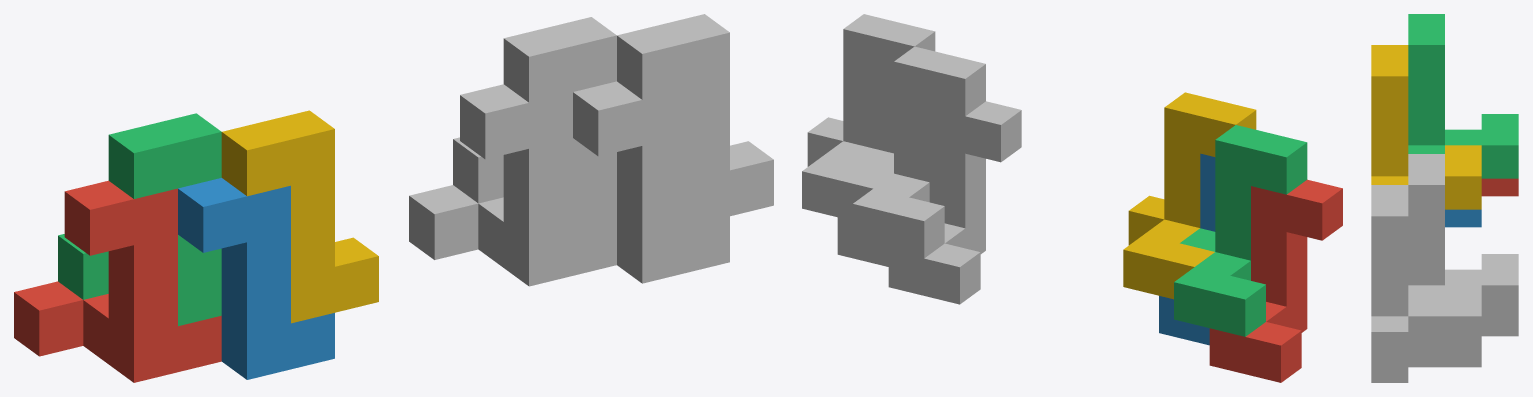
File: tiling.obj
3 renders of one model, left to right at view 1: azimuth 30°, elevation 25°; view 2: azimuth 150°, elevation 25°; view 3: azimuth 270°, elevation 25°, orthographic. The views are drawn at different scales.
Parts seen in each view (by area): view 1: copy_1_domain_1, copy_1_domain_5, copy_1_domain_6, copy_1_domain_2, copy_1_domain_4, copy_1_domain_8, copy_1_domain_3, copy_1_domain_7; view 2: copy_1_domain_3, copy_1_domain_7, copy_1_domain_5, copy_1_domain_1, copy_1_domain_4, copy_1_domain_8, copy_1_domain_2, copy_1_domain_6; view 3: copy_1_domain_8, copy_1_domain_7, copy_1_domain_3, copy_1_domain_4, copy_1_domain_6, copy_1_domain_1, copy_1_domain_5, copy_1_domain_2.
Boxes of the visible parts, bbox=[...] form: copy_1_domain_1: bbox=[14, 180, 221, 382]; copy_1_domain_5: bbox=[409, 84, 616, 286]; copy_1_domain_6: bbox=[573, 81, 729, 283]; copy_1_domain_2: bbox=[178, 178, 334, 379]; copy_1_domain_4: bbox=[221, 110, 378, 323]; copy_1_domain_8: bbox=[617, 14, 773, 226]; copy_1_domain_3: bbox=[58, 113, 221, 326]; copy_1_domain_7: bbox=[453, 17, 616, 229]; copy_1_domain_3: bbox=[1174, 125, 1307, 336]; copy_1_domain_7: bbox=[853, 46, 985, 258]; copy_1_domain_5: bbox=[888, 101, 1021, 304]; copy_1_domain_1: bbox=[1209, 179, 1342, 382]; copy_1_domain_4: bbox=[1123, 92, 1256, 299]; copy_1_domain_8: bbox=[802, 14, 935, 220]; copy_1_domain_2: bbox=[1159, 153, 1215, 345]; copy_1_domain_6: bbox=[837, 75, 893, 266]; copy_1_domain_8: bbox=[1371, 185, 1481, 365]; copy_1_domain_7: bbox=[1408, 154, 1518, 318]; copy_1_domain_3: bbox=[1408, 14, 1518, 178]; copy_1_domain_4: bbox=[1371, 45, 1481, 209]; copy_1_domain_6: bbox=[1371, 349, 1481, 382]; copy_1_domain_1: bbox=[1481, 178, 1518, 196]; copy_1_domain_5: bbox=[1481, 318, 1518, 336]; copy_1_domain_2: bbox=[1445, 209, 1481, 227].
Size of the model in its own units: 15 by 5 by 4.
